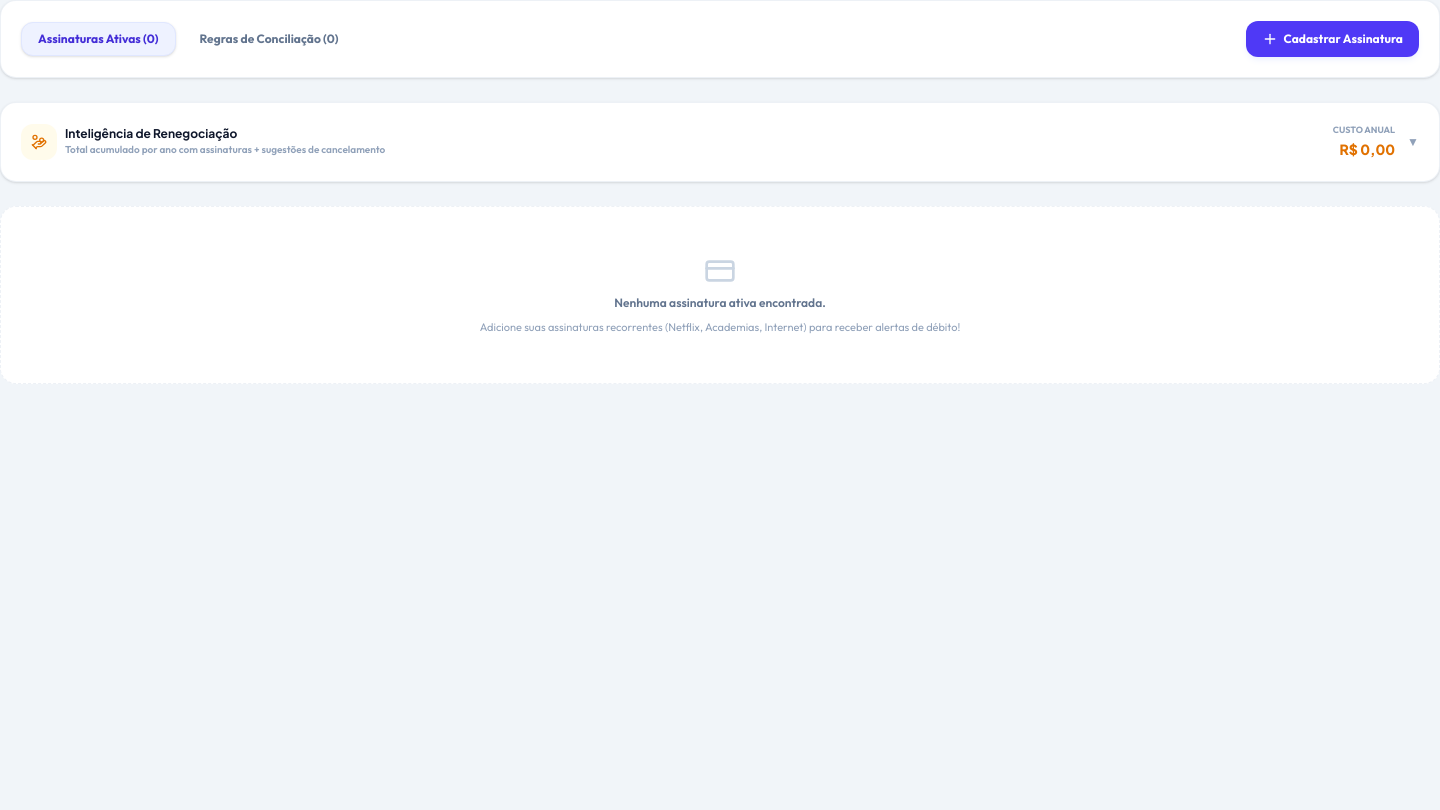
SubscriptionsManager › lista a conta de débito no formulário de assinatura
Click the button "Cadastrar Assinatura" at (1332, 39), box [1246,21,1419,57]
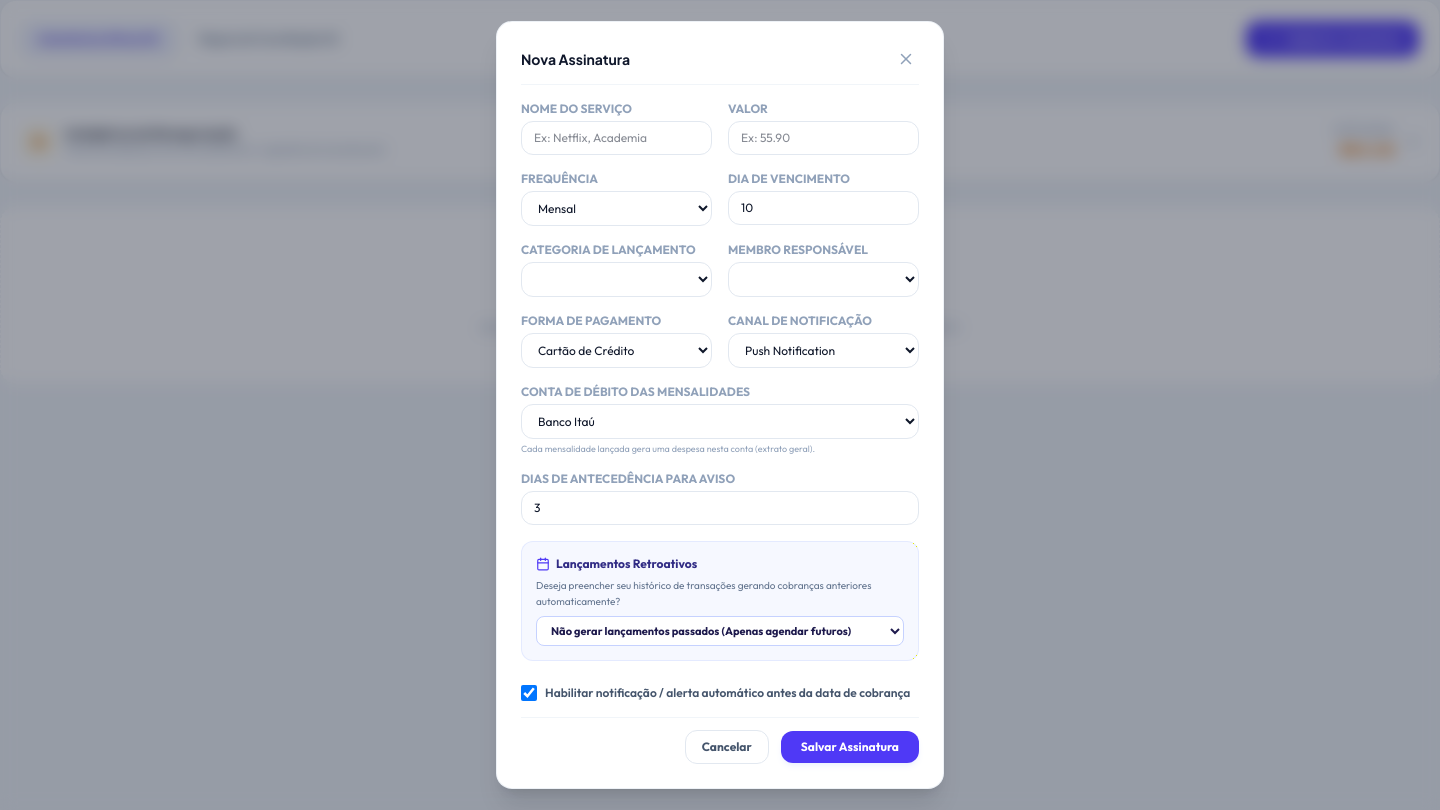
Now the text "Conta de Débito das Mensalidades" is shown, box [521,384,750,399]
